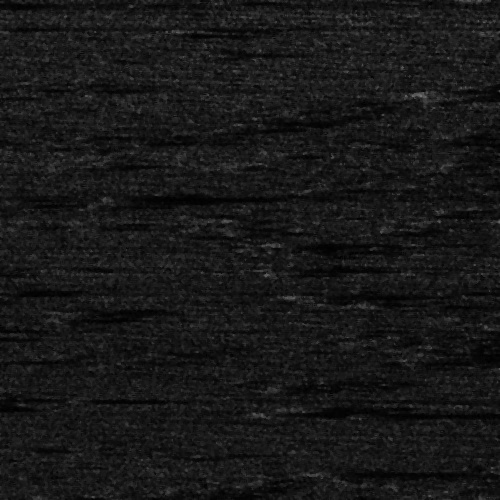object: (261, 468, 344, 477), (249, 236, 302, 247), (397, 91, 480, 96), (428, 353, 481, 360), (358, 408, 411, 415), (147, 30, 210, 35), (60, 309, 91, 314), (98, 194, 129, 197)
shadow: (276, 236, 422, 247), (303, 468, 453, 477), (385, 408, 500, 415), (292, 408, 500, 411), (179, 30, 286, 35), (114, 194, 270, 197), (76, 309, 152, 314), (454, 353, 500, 360), (438, 91, 500, 96), (298, 293, 447, 294), (0, 335, 38, 338), (0, 404, 9, 407)
